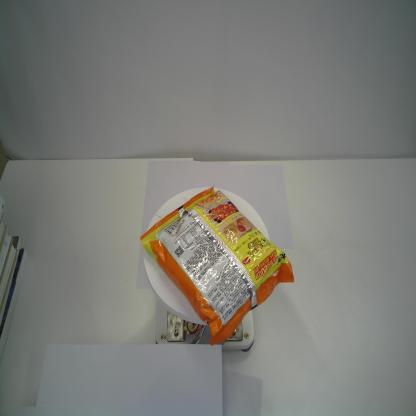Instant Noodles: (138, 182, 296, 348)
